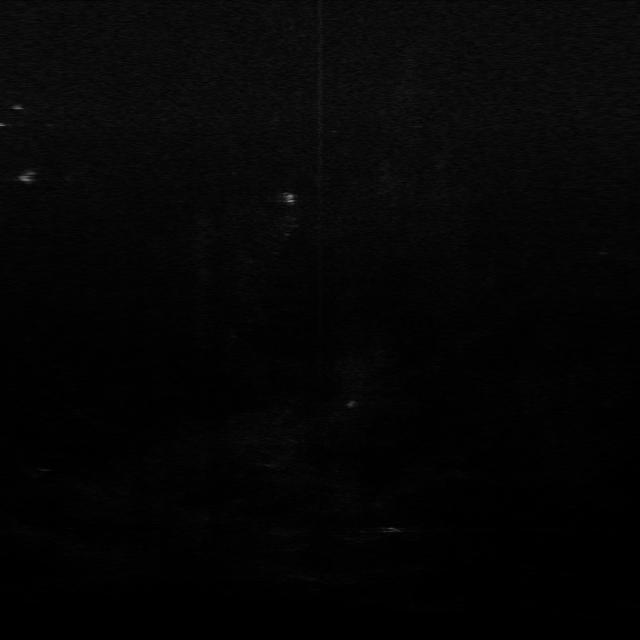rov: (10, 165, 46, 188)
